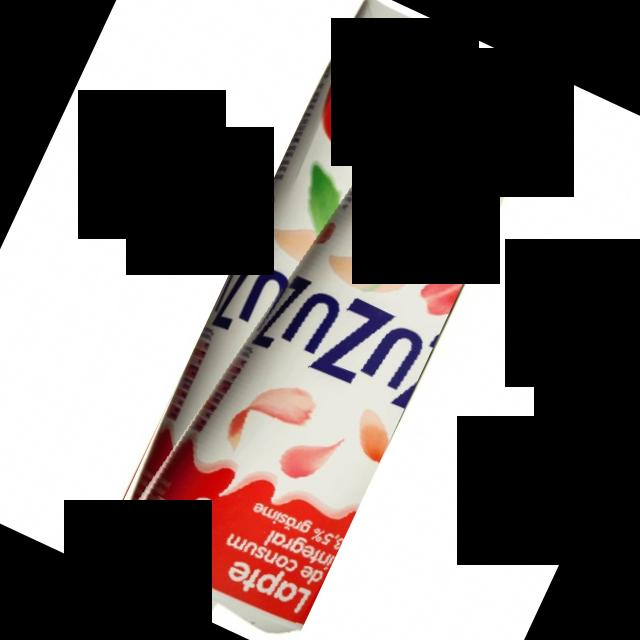milk: (92, 0, 558, 640)
